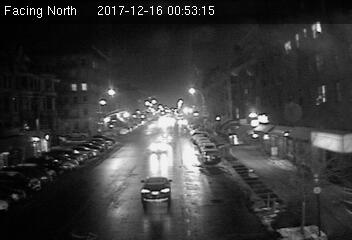car: (139, 176, 173, 202), (202, 148, 222, 166)
